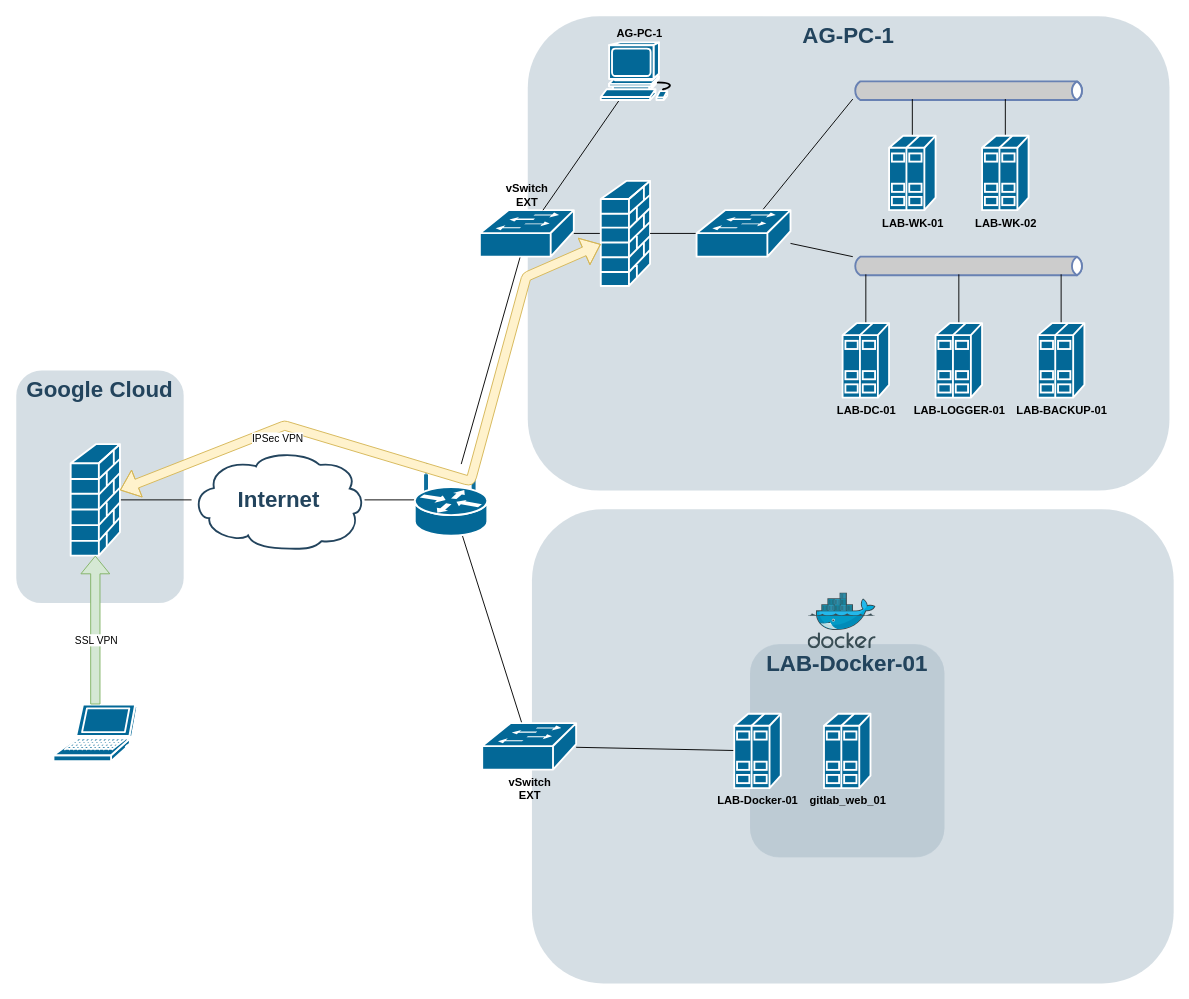
Image size: 1189x999. Some labels were removed from this diagram. Each missing label, with the box of its shape:
100 - Clients | 192.168.101.0/24 | DHCP: (851, 80, 1085, 100)
101 - Infrastructure | 192.168.100.0/24: (851, 255, 1085, 276)
AQ-ESXi-01: (531, 509, 1173, 983)
GCP-pfsense: (69, 443, 120, 556)
Home router: (413, 463, 488, 536)
LAB-GW-02: (599, 179, 651, 286)
vSwitch PRV: (695, 209, 791, 257)
